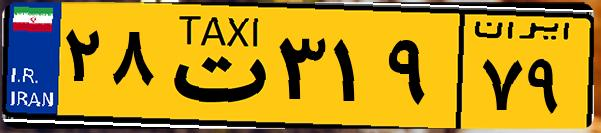1: (330, 28, 385, 110)
2: (57, 26, 110, 100)
3: (270, 28, 330, 110)
7: (475, 38, 525, 113)
8: (110, 28, 158, 98)
9: (385, 28, 445, 110), (525, 38, 570, 115)
ت: (158, 12, 270, 120)
